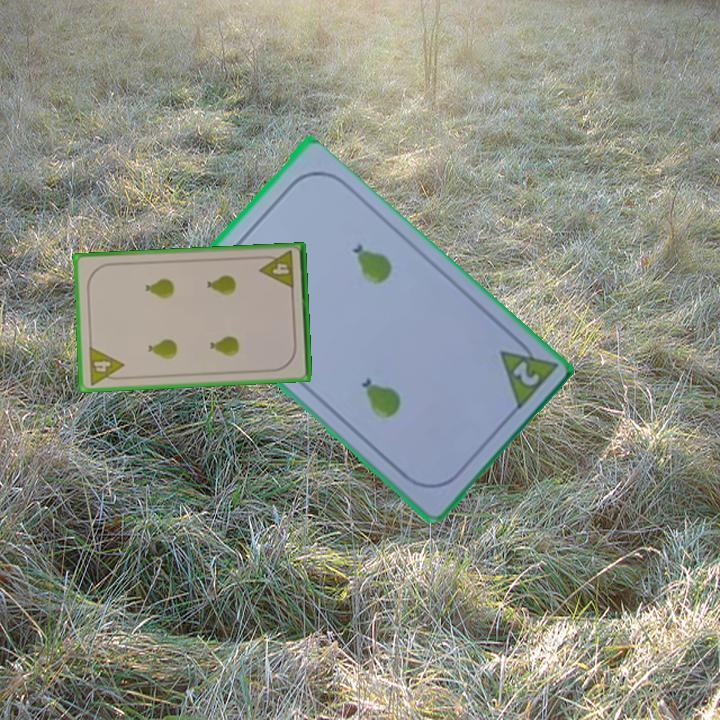2p: (494, 331, 559, 415)
4p: (85, 343, 127, 388), (256, 247, 297, 292)
